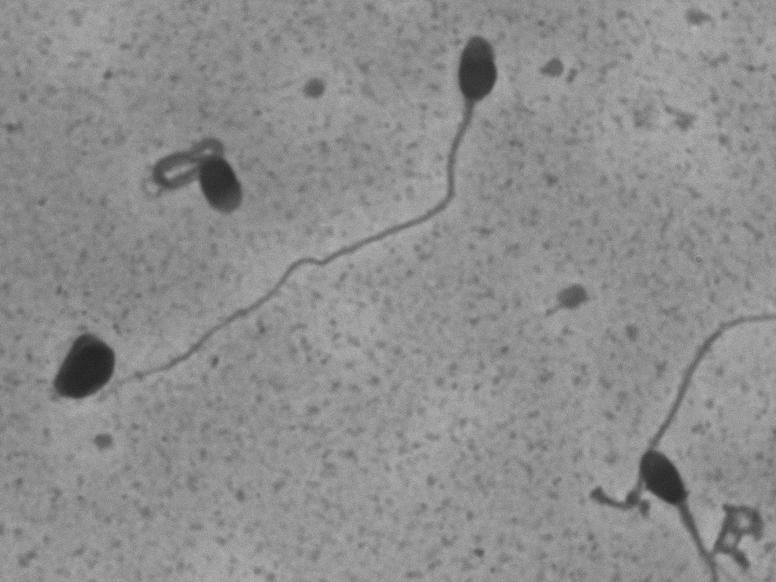Abnormal: (96, 23, 517, 418), (128, 109, 260, 230)
